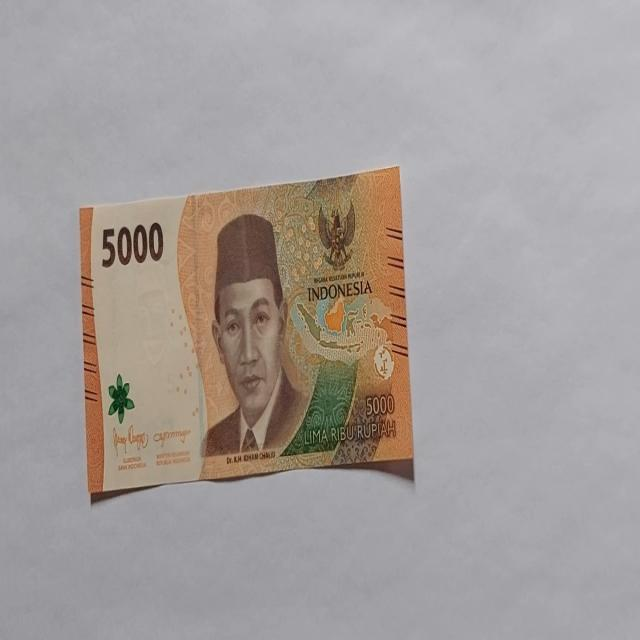lima ribu rupiah: (79, 166, 414, 502), (200, 212, 310, 460)
